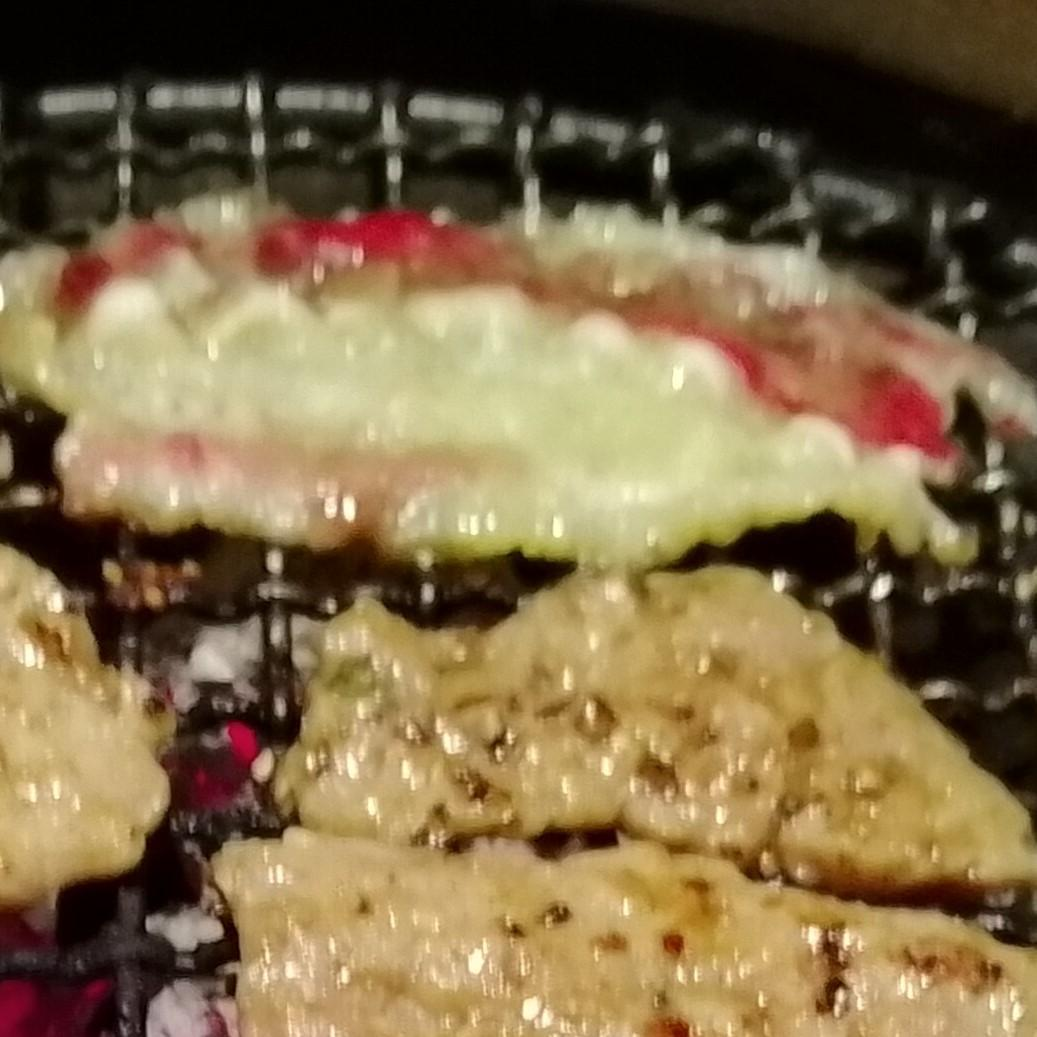Undercooked: (0, 196, 1036, 599)
Well-Cooked: (304, 572, 1036, 921), (213, 831, 1036, 1036), (0, 550, 171, 902)
